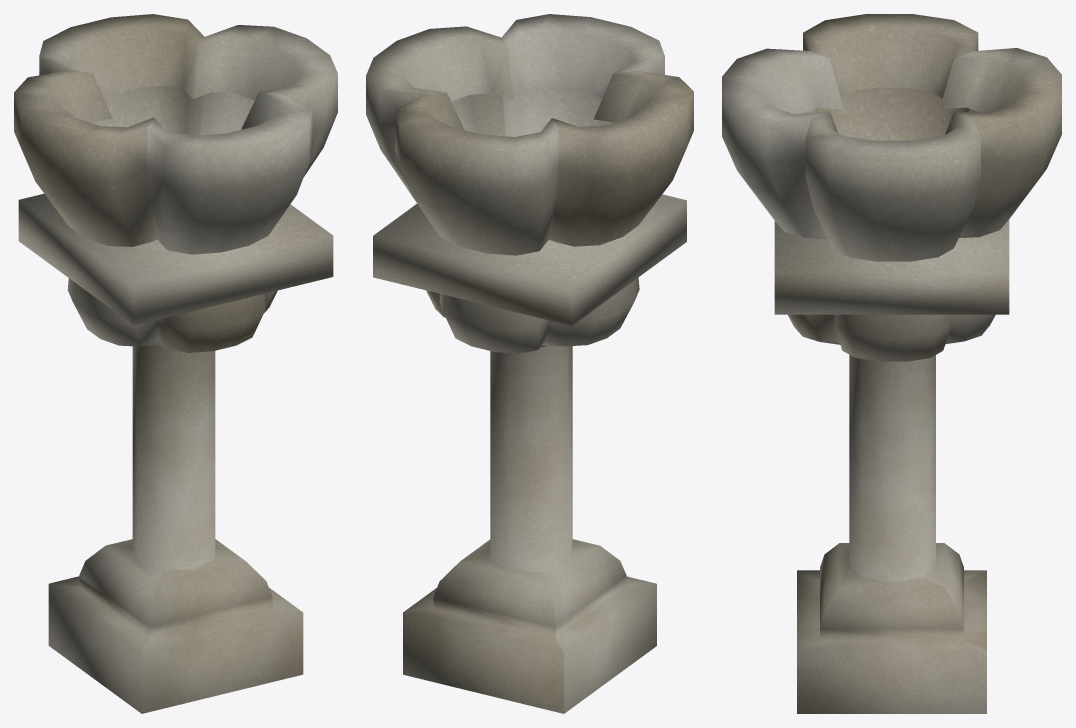
The model's file is fuente.fbx.
The picture shows the model from 3 angles, left to right: view 1: azimuth 30°, elevation 25°; view 2: azimuth 150°, elevation 25°; view 3: azimuth 270°, elevation 25°; orthographic projection.
Visible parts, largest first — view 1: BézierCurve.006; view 2: BézierCurve.006; view 3: BézierCurve.006.
Part boxes in pixels (bbox=[...]): BézierCurve.006: bbox=[14, 14, 337, 713]; BézierCurve.006: bbox=[366, 14, 693, 713]; BézierCurve.006: bbox=[722, 14, 1061, 713].
Bounding box in the file's own units: 38.87 × 74.6 × 39.02.
